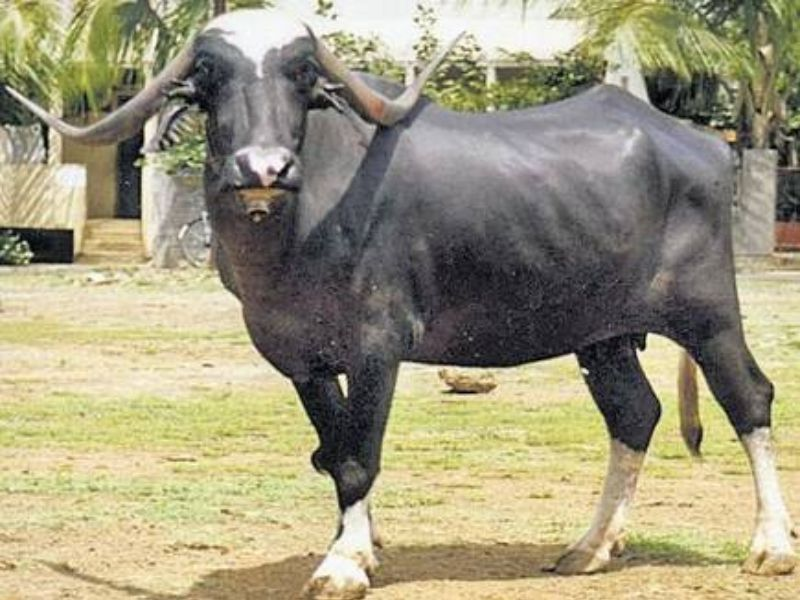buffalo: (142, 6, 800, 595)
